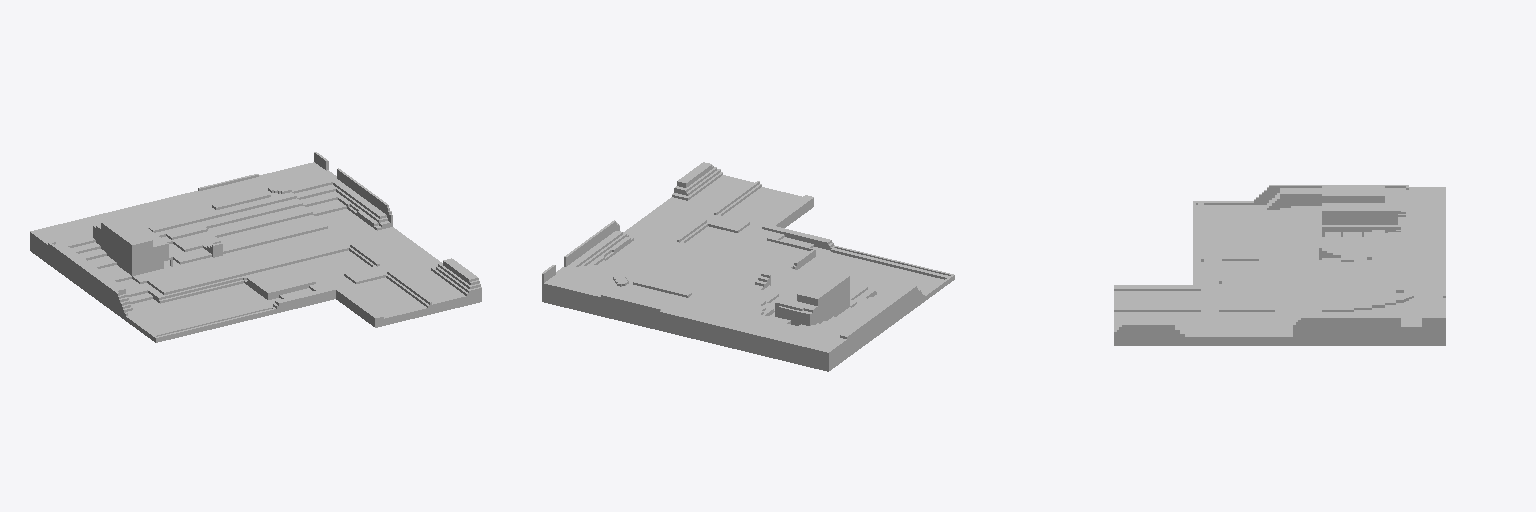
File: faccat terreno.obj
3 renders of one model, left to right at view 1: azimuth 30°, elevation 25°; view 2: azimuth 150°, elevation 25°; view 3: azimuth 270°, elevation 25°, orthographic.
Visible parts, largest first — view 1: object 1; view 2: object 1; view 3: object 1.
Boxes of the visible parts, <box> form: object 1: <box>30,152,481,342</box>; object 1: <box>542,162,954,371</box>; object 1: <box>1114,185,1445,345</box>.
Bounding box in the file's own units: 12.6 × 1.7 × 12.6.